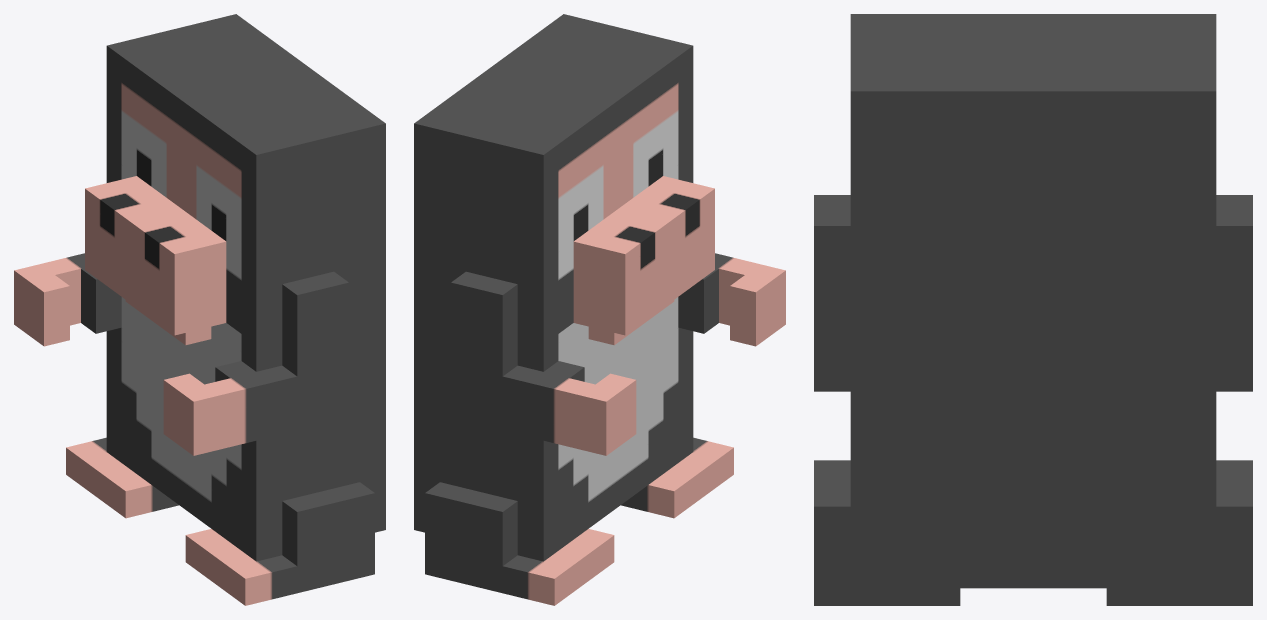
File: chapter3_gorilla.fbx
The picture shows the model from 3 angles, left to right: view 1: azimuth 30°, elevation 25°; view 2: azimuth 150°, elevation 25°; view 3: azimuth 270°, elevation 25°; orthographic projection. The views are drawn at different scales.
Parts seen in each view (by area): view 1: Box; view 2: Box; view 3: Box.
Part boxes in pixels (left/top/right/bottom): Box: left=14, top=14, right=385, bottom=605; Box: left=414, top=14, right=785, bottom=605; Box: left=814, top=14, right=1252, bottom=605.
Size of the model in its own units: 8 by 16 by 12.
